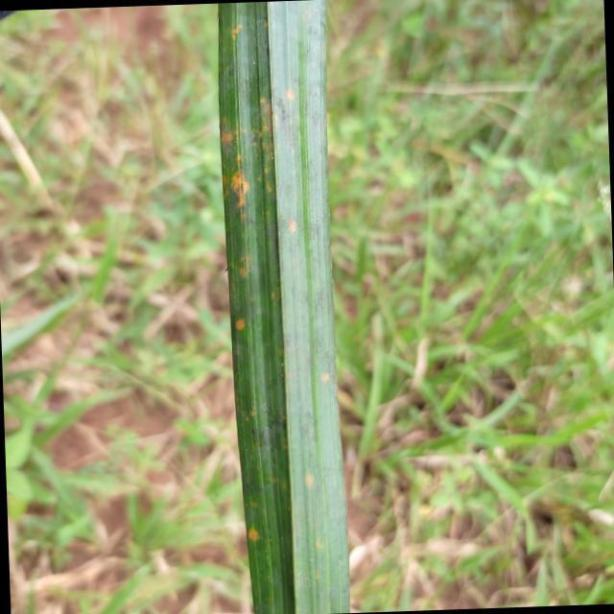Kalium: (211, 0, 358, 614)
